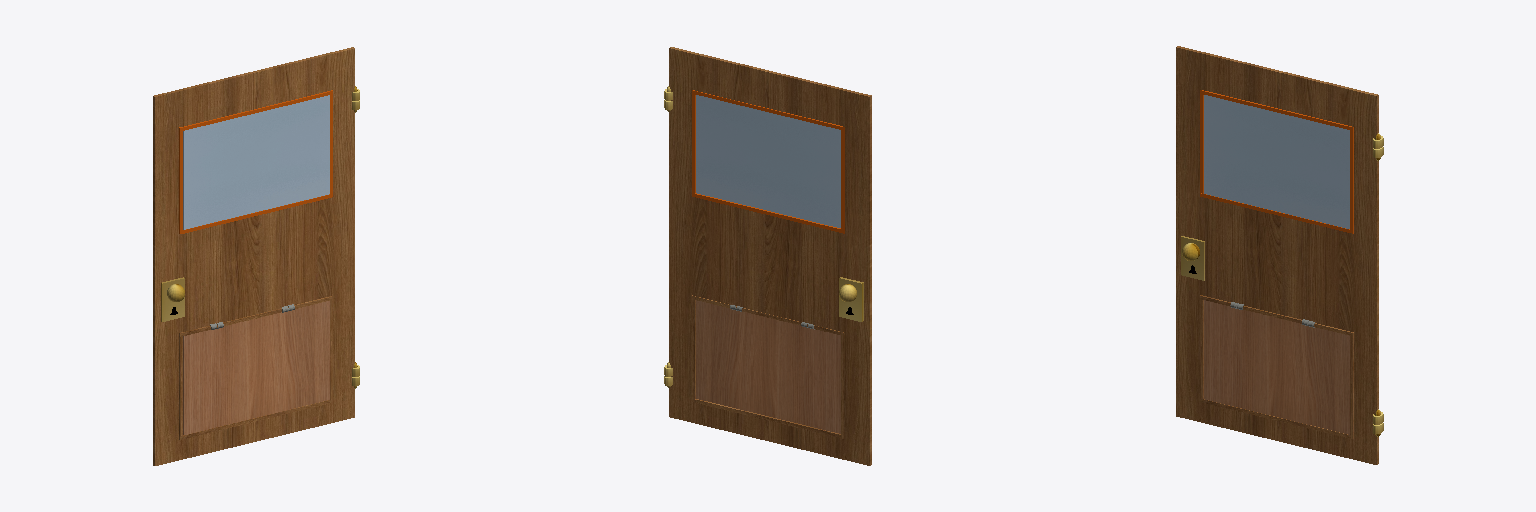
The picture shows the model from 3 angles: view 1: azimuth 30°, elevation 25°; view 2: azimuth 150°, elevation 25°; view 3: azimuth 330°, elevation 25°; orthographic projection.
Parts seen in each view (by area): view 1: cuarto:cuarto:pCube45; view 2: cuarto:cuarto:pCube45; view 3: cuarto:cuarto:pCube45.
Boxes of the visible parts, box(x1,y1,x2,y2) form: cuarto:cuarto:pCube45: box(153, 47, 359, 465); cuarto:cuarto:pCube45: box(664, 47, 871, 465); cuarto:cuarto:pCube45: box(1176, 46, 1383, 464).
Bounding box in the file's own units: 1.89 × 3.25 × 0.2908.
7 materials, 7 textured.